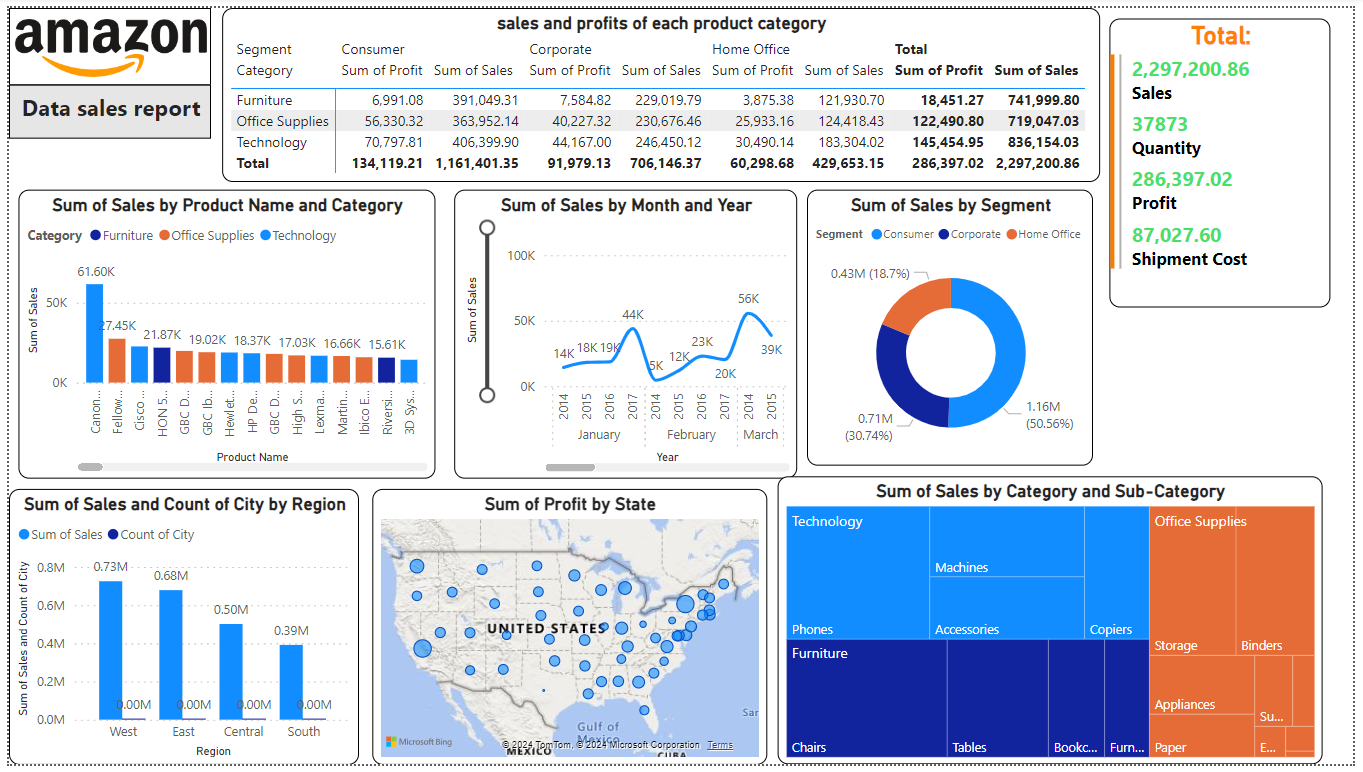

This screenshot's page, from the dashboard's own definition file:
{"tool":"powerbi","page":{"name":"Page 1","canvas":[1280,720],"ordinal":0},"visuals":[{"type":"image","box":[0,0,193.4,73.3],"z":0},{"type":"textbox","box":[0,73.3,193.4,50.5],"z":1000},{"type":"multiRowCard","title":"Total:","fields":{"Values":["Sum(Orders.Sales)","Sum(Orders.Quantity)","Sum(Orders.Profit)","Sum(Orders.Shipment Cost)"]},"box":[1047.7,9.5,211.5,275.3],"z":2000},{"type":"columnChart","fields":{"Category":["Orders.Product Name"],"Series":["Orders.Category"],"Y":["Sum(Orders.Sales)"]},"box":[8.6,173.4,397.2,274.3],"z":3000},{"type":"lineChart","fields":{"Category":["Orders.Order Date.Variation.Date Hierarchy.Month","Orders.Order Date.Variation.Date Hierarchy.Year"],"Y":["Sum(Orders.Sales)"]},"box":[423.9,173.4,326.7,274.3],"z":4000},{"type":"pivotTable","title":"sales and profits of each product category","fields":{"Rows":["Orders.Category"],"Columns":["Orders.Segment"],"Values":["Sum(Orders.Profit)","Sum(Orders.Sales)"]},"box":[202.9,0,836.3,164.8],"z":5000},{"type":"treemap","fields":{"Group":["Orders.Category"],"Details":["Orders.Sub-Category"],"Values":["Sum(Orders.Sales)"]},"box":[731.5,445.8,519.1,274.3],"z":6000},{"type":"clusteredColumnChart","fields":{"Category":["Orders.Region"],"Y":["Sum(Orders.Sales)","CountNonNull(Orders.City)"]},"box":[0,458,334,262],"z":7000},{"type":"map","fields":{"Category":["Orders.State"],"Size":["Sum(Orders.Profit)"]},"box":[345.8,458.2,376.2,261.9],"z":8000},{"type":"donutChart","fields":{"Y":["Sum(Orders.Sales)"],"Category":["Orders.Segment"]},"box":[760.1,173.4,272.4,261.9],"z":8001}]}

Visuals, with their boxes in screenshot pixels (x1, y1, x2, y2), scaled from the page's 1280x720 canvas onto the 1363x772 screenshot:
image: box(0, 0, 206, 79)
textbox: box(0, 79, 206, 133)
"Total:" multiRowCard: box(1116, 10, 1341, 305)
columnChart - Orders.Product Name x Orders.Category: box(9, 186, 432, 480)
lineChart - Orders.Order Date.Variation.Date Hierarchy.Month x Orders.Order Date.Variation.Date Hierarchy.Year: box(451, 186, 799, 480)
"sales and profits of each product category" pivotTable: box(216, 0, 1107, 177)
treemap - Orders.Category x Orders.Sub-Category: box(779, 478, 1332, 771)
clusteredColumnChart - Orders.Region x Sum(Orders.Sales): box(0, 491, 356, 771)
map - Orders.State x Sum(Orders.Profit): box(368, 491, 769, 771)
donutChart - Sum(Orders.Sales) x Orders.Segment: box(809, 186, 1099, 467)
